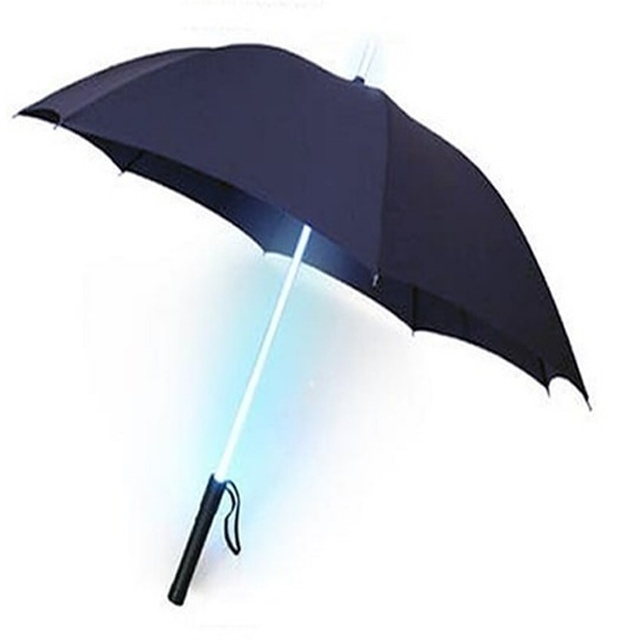umbrella: (9, 32, 595, 615)
